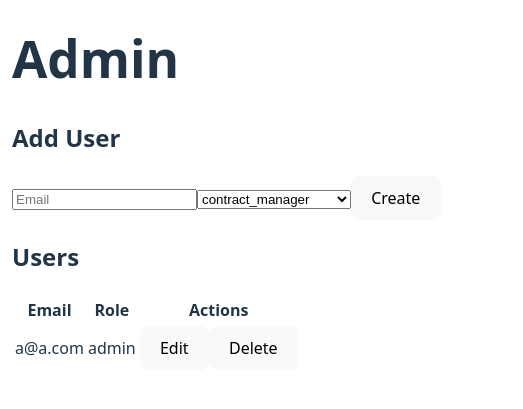
Test: AdminPage edit › optimistically edits a user and rolls back on error
The image size is (523, 409).
Expected: the text "a@a.com" is shown, [14, 325, 85, 370]
Click the button "Edit".
click(174, 348)  # box [140, 326, 209, 370]
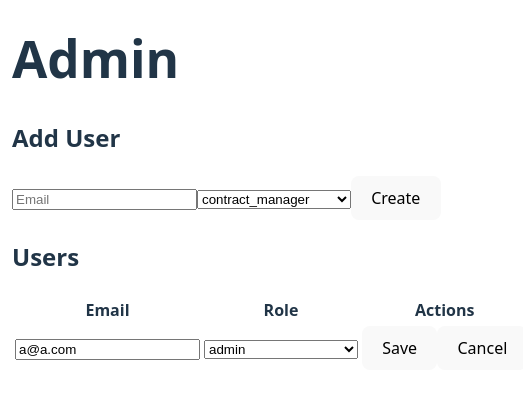
Replace the text in the field showing "a@a.com" with "b@b.com" at (108, 349), box [15, 339, 200, 360]
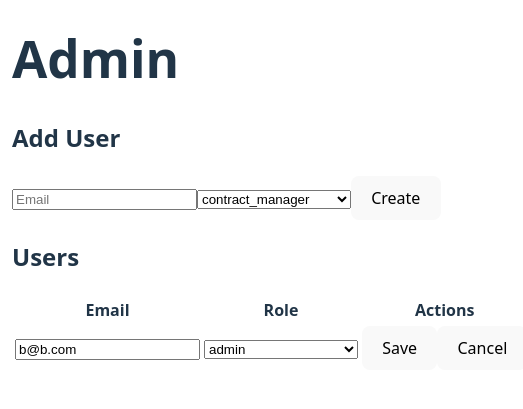
Click the button "Save".
click(400, 348)  # box [362, 326, 437, 370]
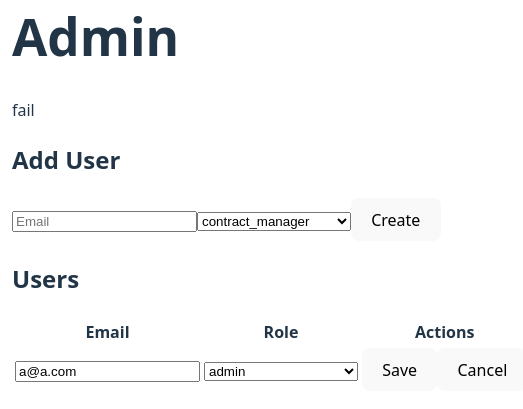
Expected: the 1st text "b@b.com" is shown, [14, 347, 201, 392]
Expected: the text "fail" is shown, [12, 100, 35, 122]
Expected: the field showing "a@a.com" is shown, [15, 361, 200, 382]
